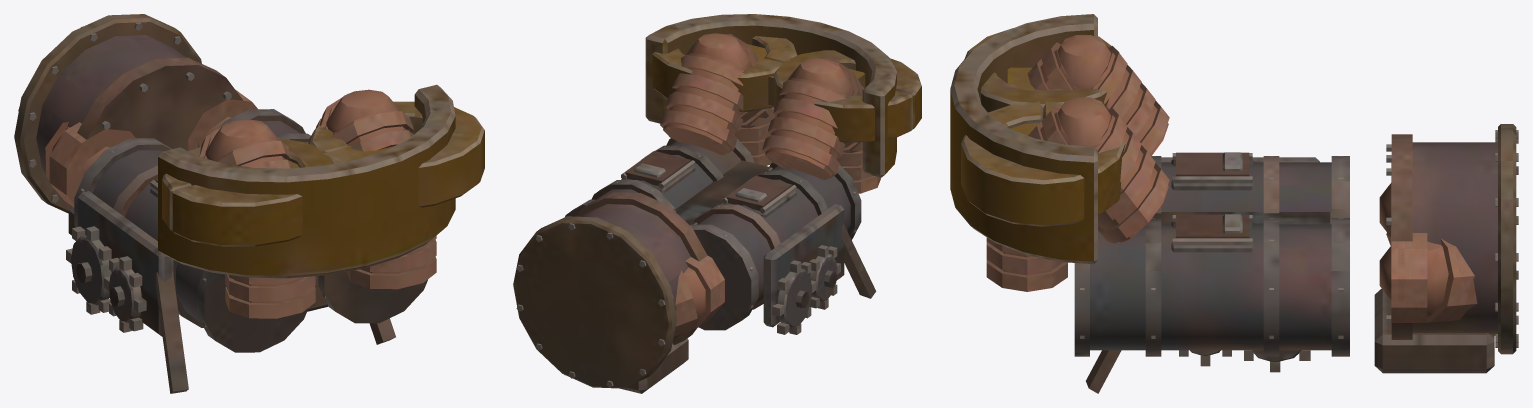
The model's file is offshore-pump-south.glb.
3 views of the same model, side by side, from view 1: azimuth 30°, elevation 25°; view 2: azimuth 150°, elevation 25°; view 3: azimuth 270°, elevation 25° (orthographic). The views are drawn at different scales.
Parts seen in each view (by area): view 1: body; view 2: body; view 3: body.
Part boxes in pixels (box(x1,y1,x2,y2)): body: box(14, 14, 484, 393); body: box(513, 14, 921, 393); body: box(950, 14, 1518, 393).
Size of the model in its own units: 1.4 by 1.15 by 2.14.
Materials: 1 (1 with a texture image).
